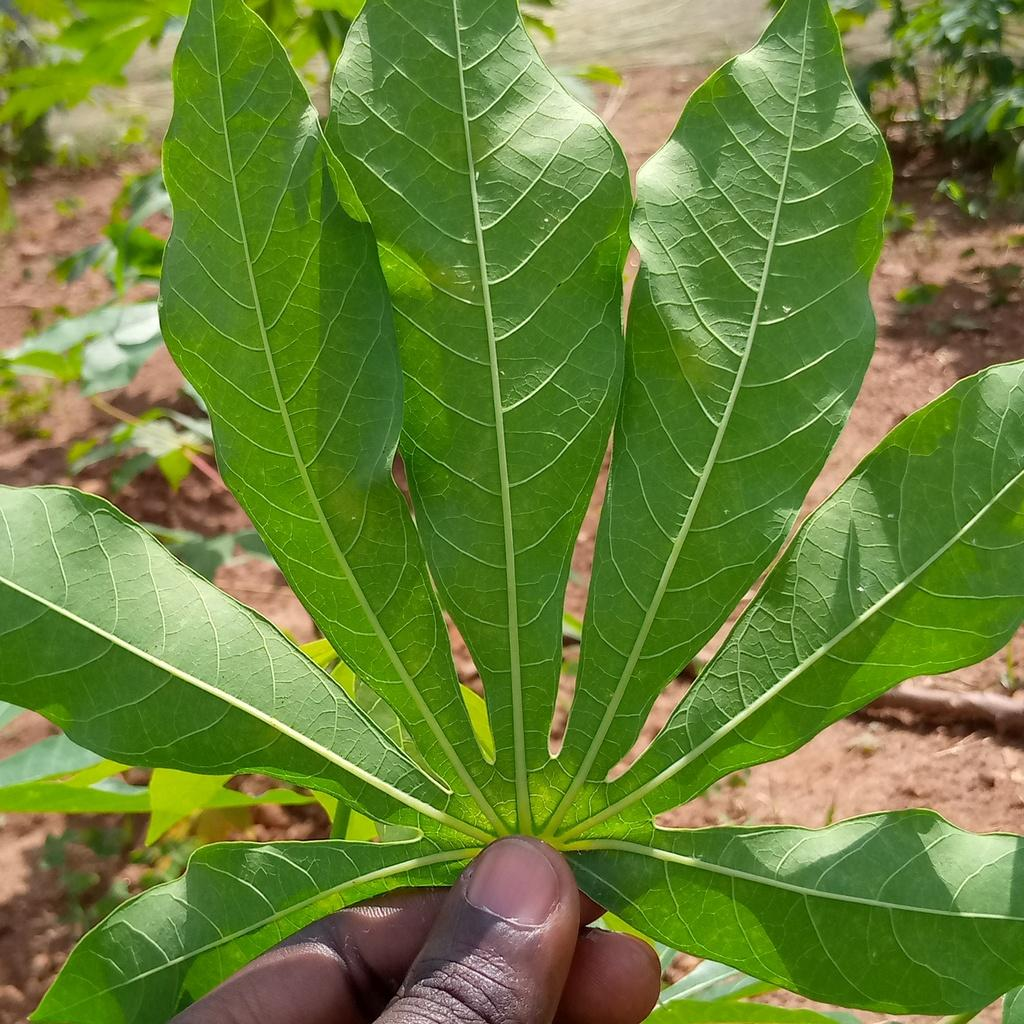adult: (782, 305, 791, 314), (856, 587, 864, 592), (475, 171, 479, 180), (887, 514, 894, 519), (500, 370, 505, 376), (544, 217, 549, 223), (471, 285, 475, 292)
